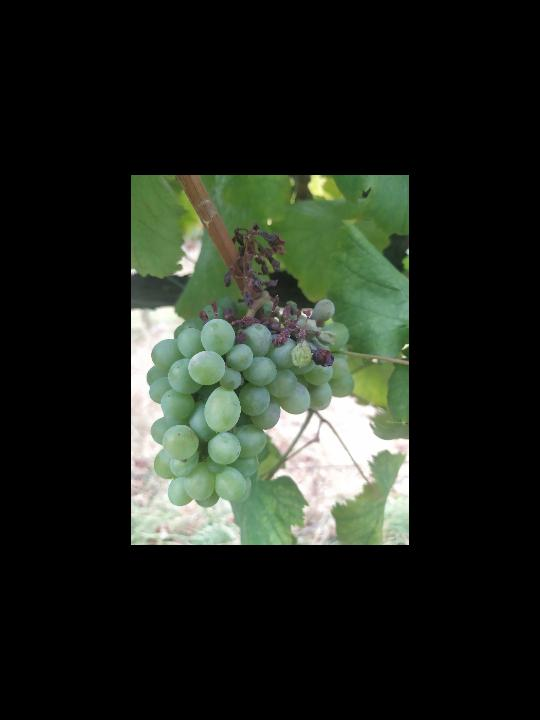grape: (143, 219, 355, 509)
